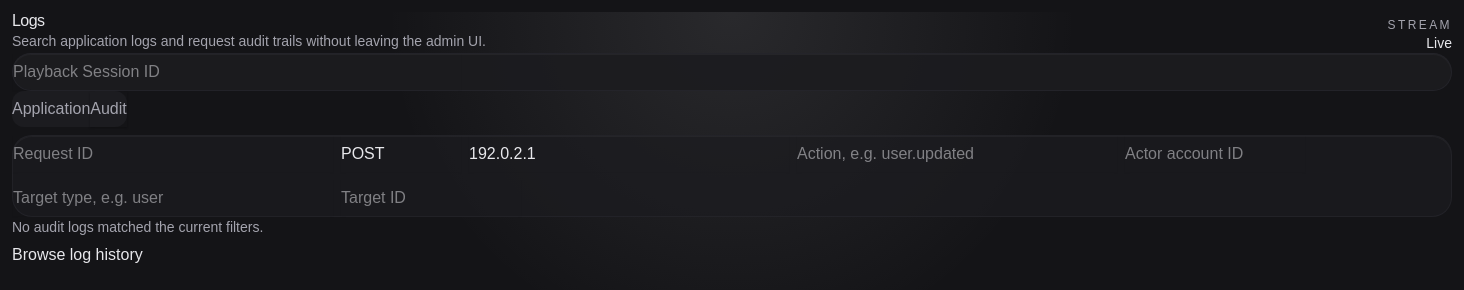
Scenario: admin log history › pages the audit stream and reports a failed fetch without an empty-state claim
The image size is (1464, 290).
Click the button "Browse log history": {"x": 77, "y": 255} [12,237,143,273]
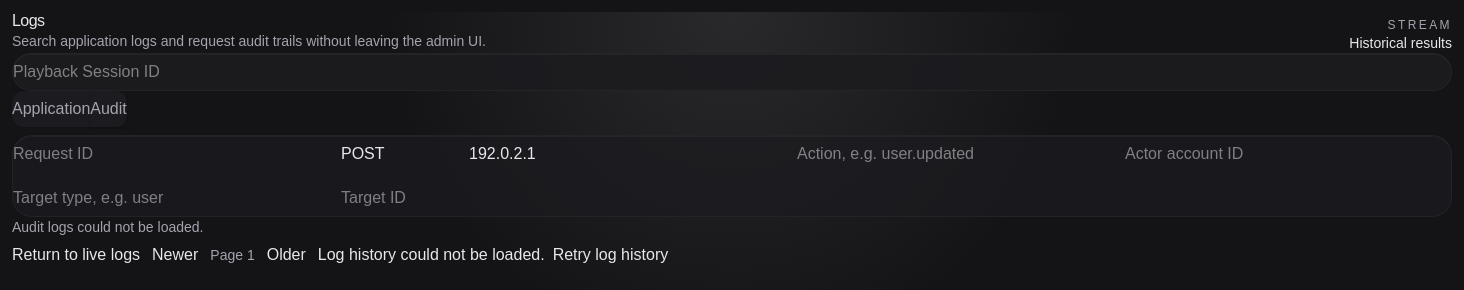
Result: the message "Log history could not be loaded. Retry log history" is shown at [318,237,668,273]
Result: the text "No audit logs matched the current filters." is gone
Click the button "Retry log history": {"x": 610, "y": 255} [553,237,668,273]
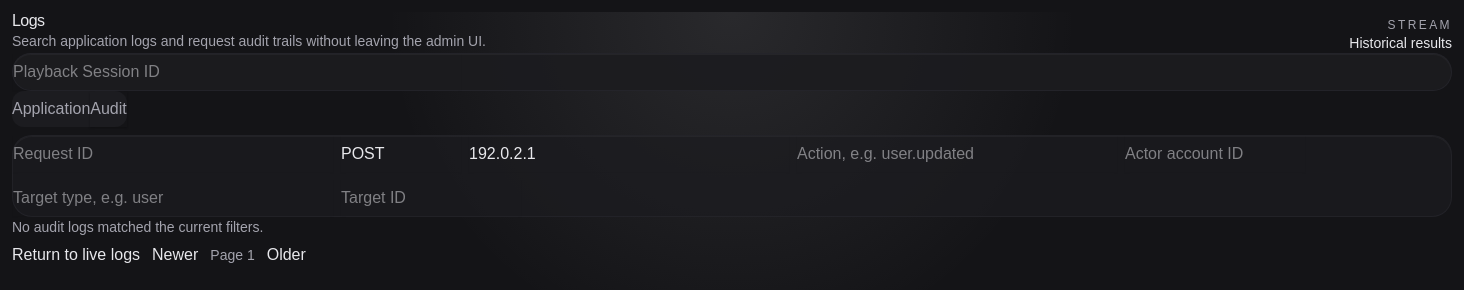
Result: the text "No audit logs matched the current filters." is shown at [12,219,263,235]
Result: the message "Log history could not be loaded. Retry log history" is gone
